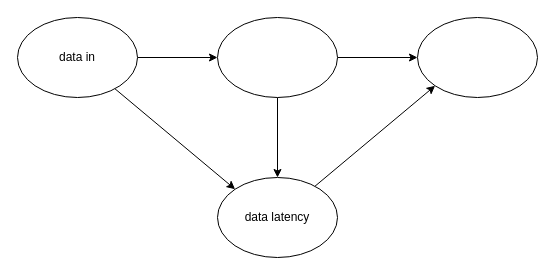
Some shapes in this 555 by 275 pixel diagram are drawn without their labels. The shapes that lost their labels are listed below. From the top down, each one's box as (x1, y1, x2, y2) in pixels, then its label:
(216, 16, 338, 98): data calculas
(416, 16, 538, 98): data out
